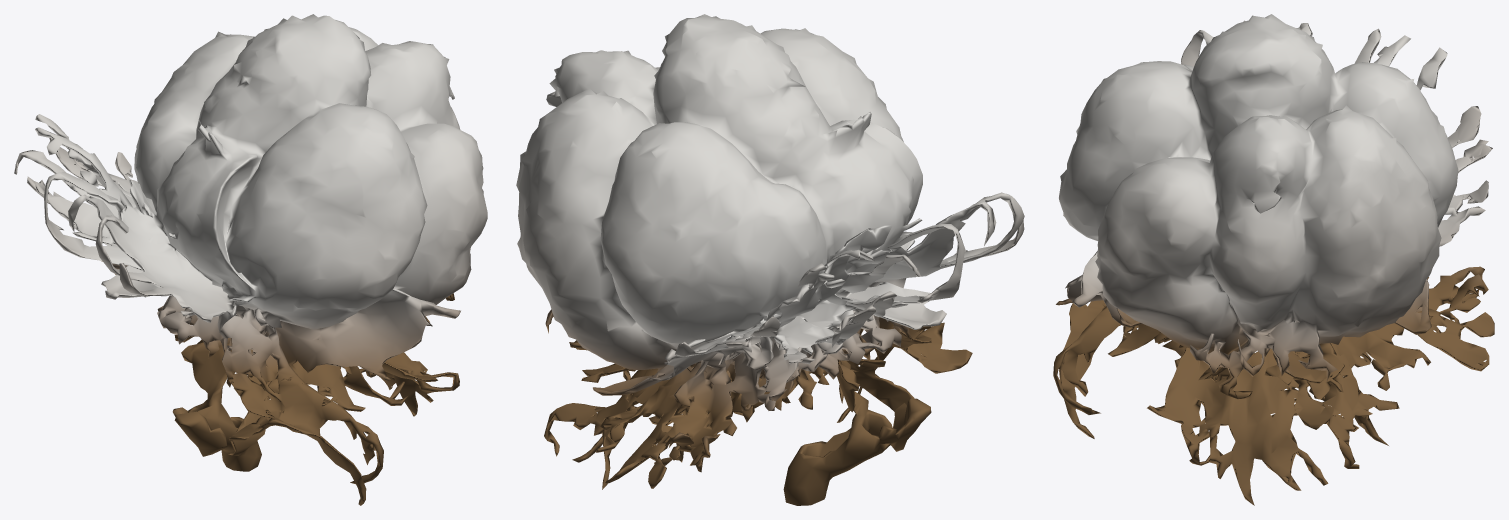
File: cotton-boll-hi.glb
3 views of the same model, side by side, from view 1: azimuth 30°, elevation 25°; view 2: azimuth 150°, elevation 25°; view 3: azimuth 270°, elevation 25° (orthographic). The views are drawn at different scales.
Size of the model in its own units: 1.93 by 1.96 by 1.82.
